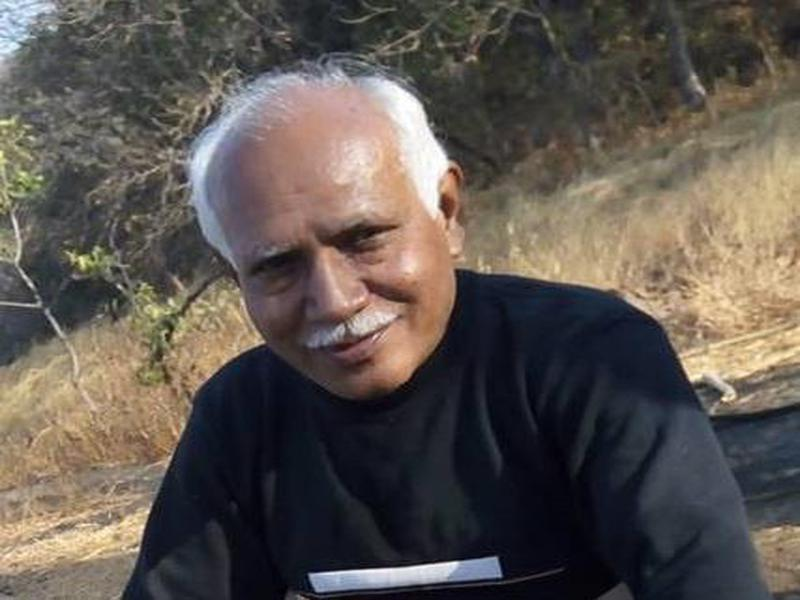without_mask: (217, 176, 453, 395)
